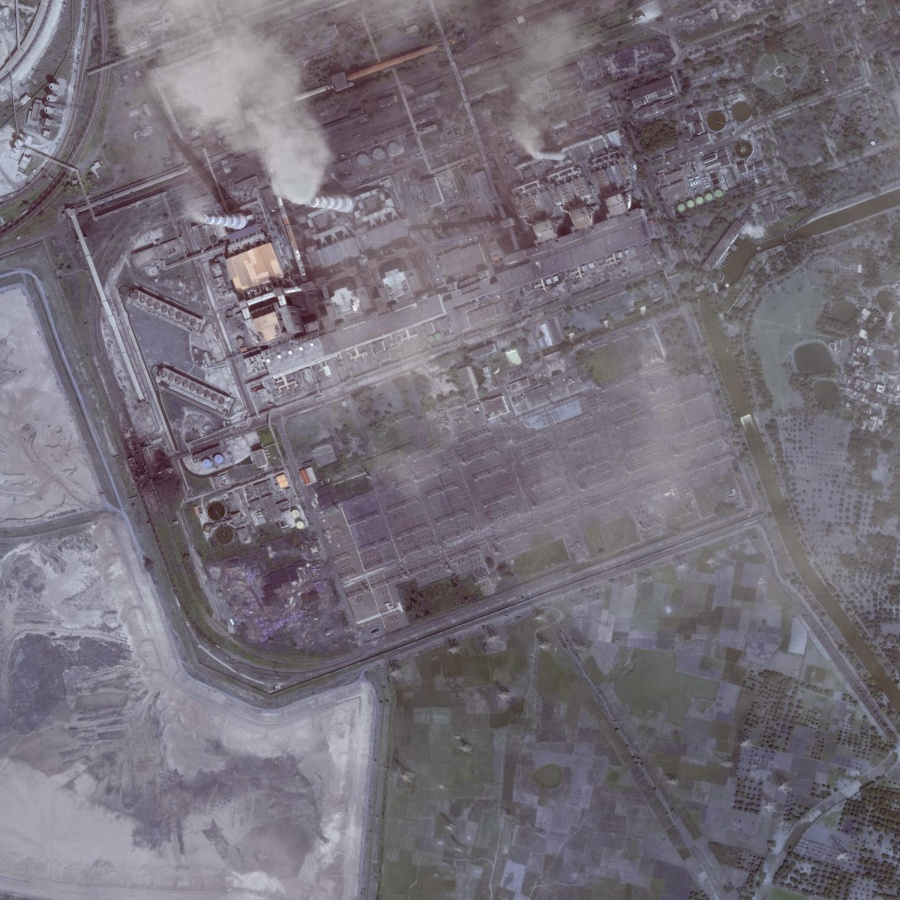PowerPlant: (150, 75, 634, 386)
